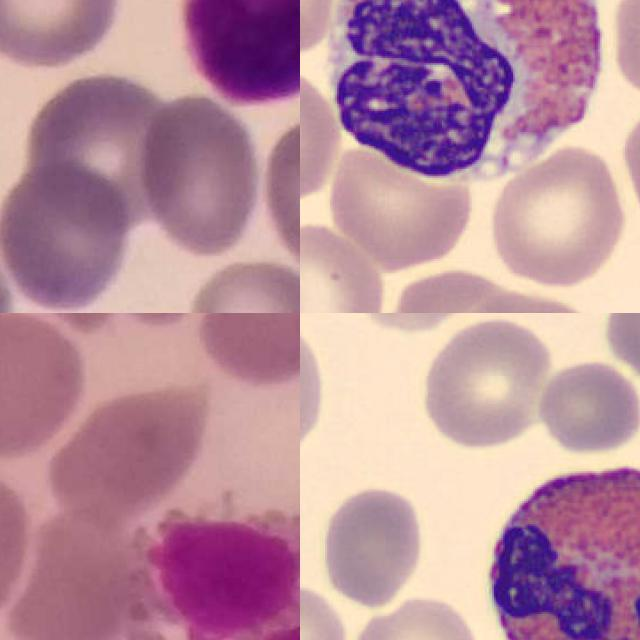Eosinophil: (313, 0, 621, 197), (472, 448, 640, 640), (126, 498, 300, 640)
Lymphocyte: (174, 0, 300, 108)
RBC: (485, 144, 631, 289), (416, 314, 554, 452), (315, 482, 429, 610), (535, 356, 640, 457), (300, 218, 390, 313), (341, 594, 487, 640), (300, 61, 342, 207), (447, 287, 621, 313), (300, 571, 353, 640), (344, 313, 495, 335), (597, 313, 640, 386)
